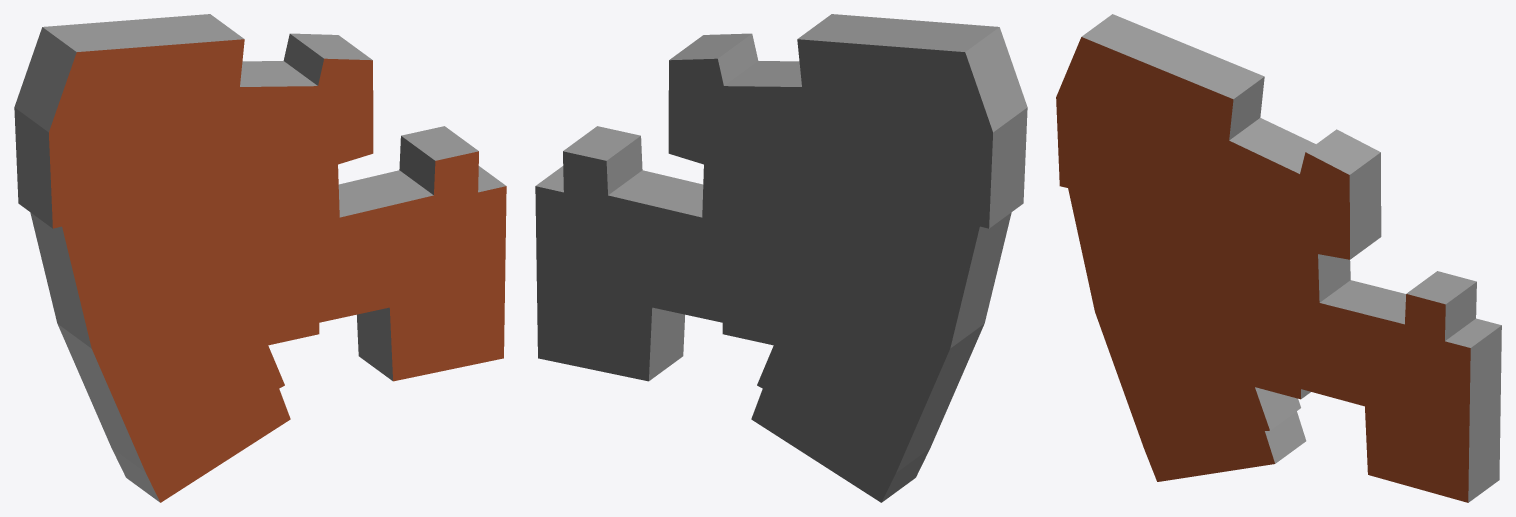
The model's file is construction_3571_assumed_A_Casa_h6m.obj.
The picture shows the model from 3 angles, left to right: view 1: azimuth 30°, elevation 25°; view 2: azimuth 150°, elevation 25°; view 3: azimuth 330°, elevation 25°; orthographic projection. The views are drawn at different scales.
Parts seen in each view (by area): view 1: construction_3571_assumed_A_Casa; view 2: construction_3571_assumed_A_Casa; view 3: construction_3571_assumed_A_Casa.
Part boxes in pixels (<box>): construction_3571_assumed_A_Casa: <box>14,14,506,502</box>; construction_3571_assumed_A_Casa: <box>535,14,1027,502</box>; construction_3571_assumed_A_Casa: <box>1056,14,1501,502</box>.
Size of the model in its own units: 46.03 by 45.28 by 6.
